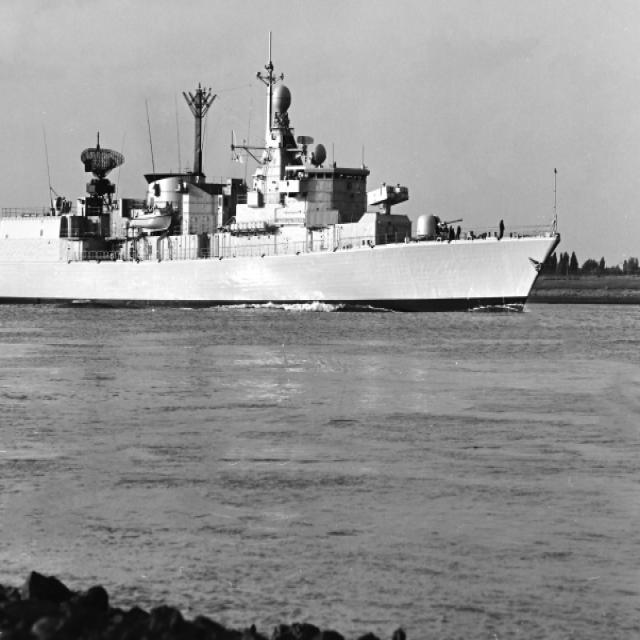Fragata: (1, 29, 563, 311)
